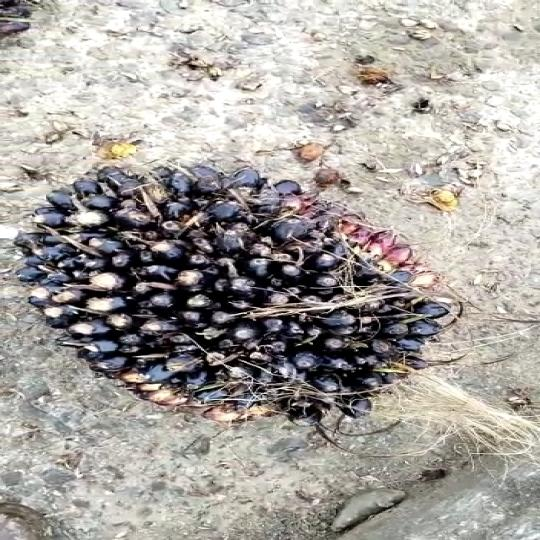mentah: (13, 151, 479, 422)
